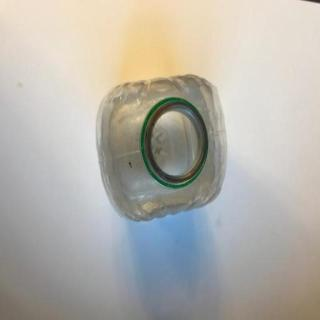Anorganik: (91, 69, 232, 229)
